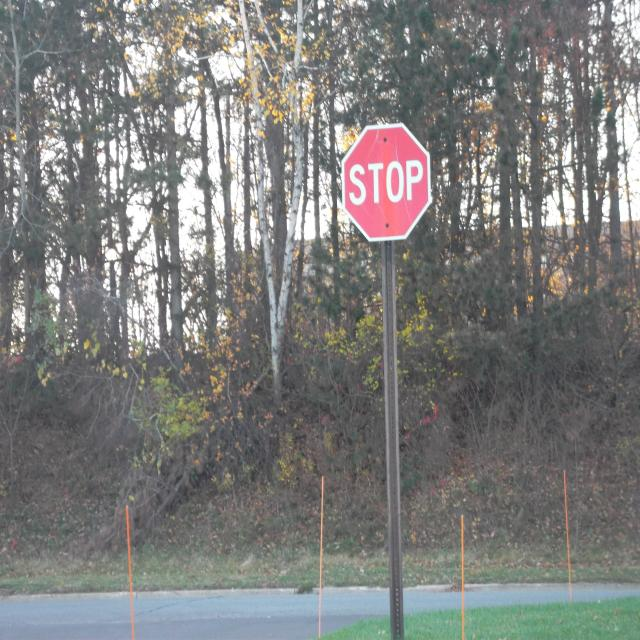stop: (338, 118, 436, 250)
